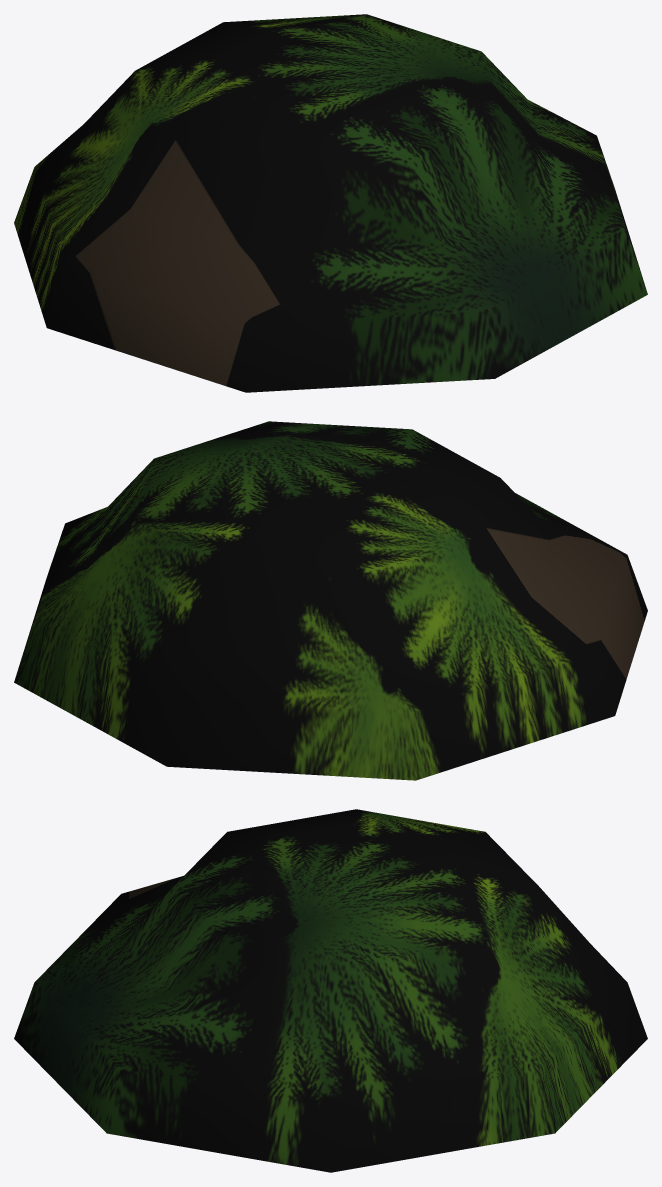
File: Mound.fbx
3 renders of one model, top to bottom at view 1: azimuth 30°, elevation 25°; view 2: azimuth 150°, elevation 25°; view 3: azimuth 270°, elevation 25°, orthographic. The views are drawn at different scales.
Visible parts, largest first — view 1: lump; view 2: lump; view 3: lump.
Boxes of the visible parts, x1,y1,x2,y2 form: lump: [14, 14, 647, 392]; lump: [14, 421, 647, 780]; lump: [14, 809, 647, 1172].
Size of the model in its own units: 12.52 by 3.85 by 12.52.
